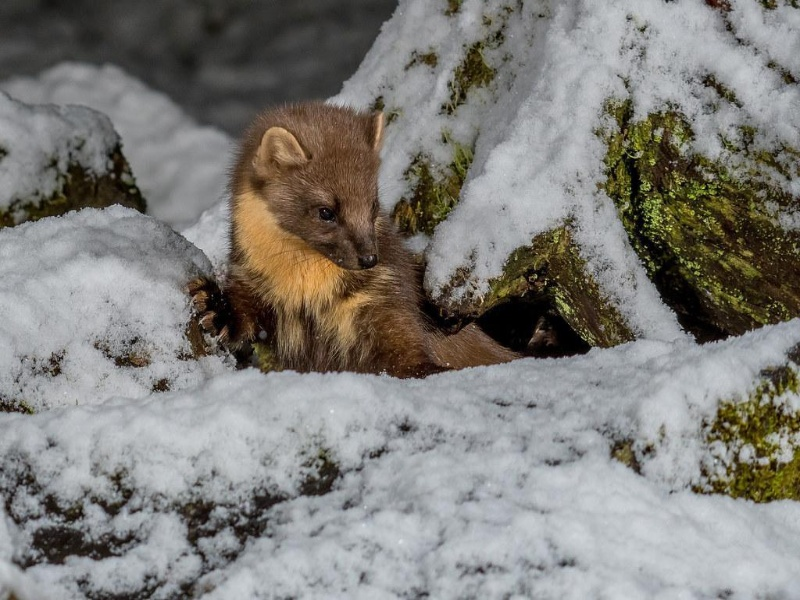minkish: (183, 94, 531, 370)
